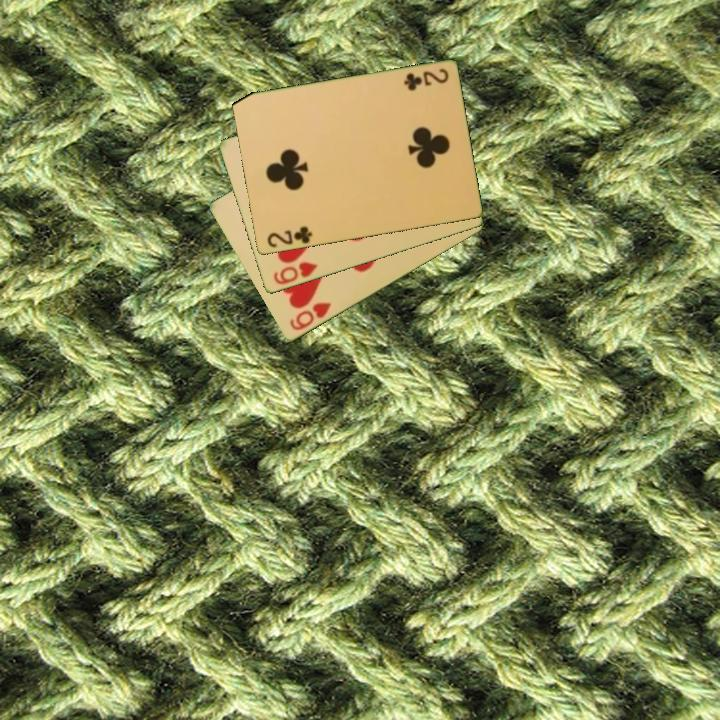2c: (263, 223, 315, 251), (400, 65, 451, 93)
6h: (286, 299, 334, 334), (270, 258, 320, 288)
